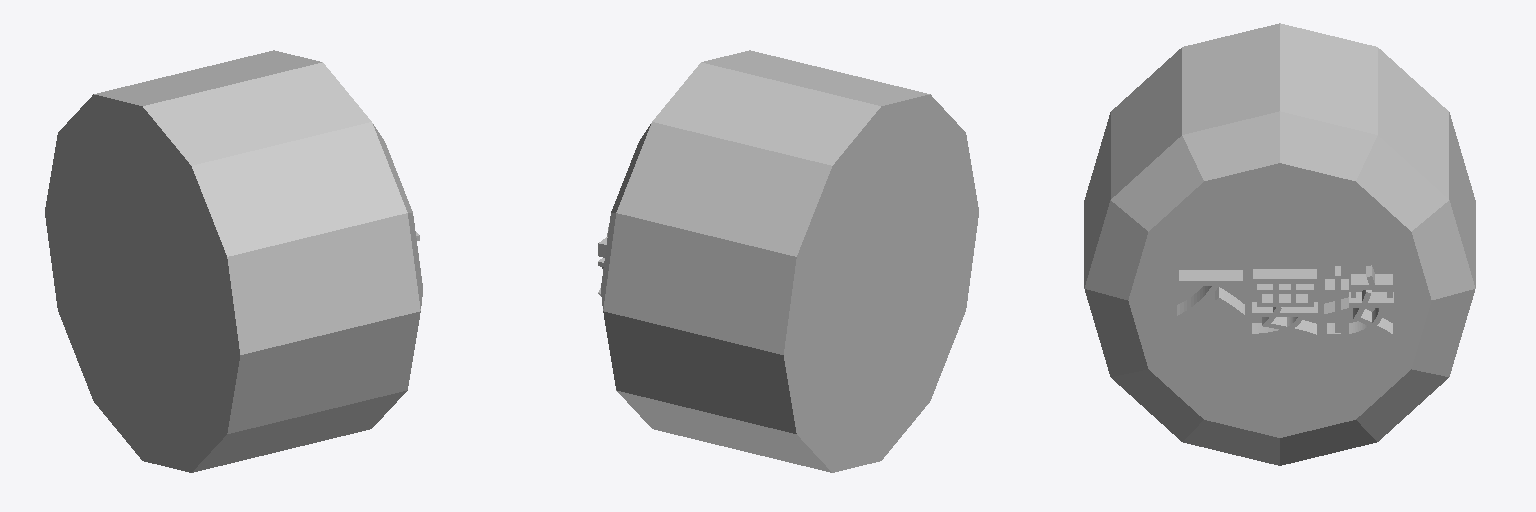
File: Button.obj
3 renders of one model, left to right at view 1: azimuth 30°, elevation 25°; view 2: azimuth 150°, elevation 25°; view 3: azimuth 270°, elevation 25°, orthographic.
Parts seen in each view (by area): view 1: Cylinder; view 2: Cylinder; view 3: Cylinder.
Boxes of the visible parts, box(x1,y1,x2,y2) form: Cylinder: box(45, 50, 422, 472); Cylinder: box(598, 50, 978, 472); Cylinder: box(1084, 23, 1475, 465).
Bounding box in the file's own units: 1.34 × 2 × 2.